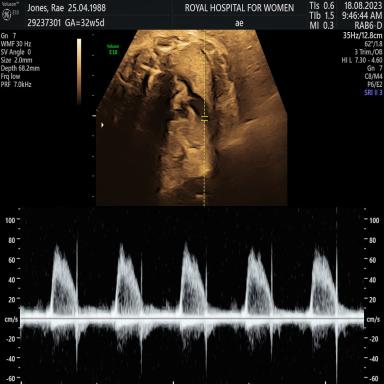Ultrasound-Waves: (25, 213, 363, 384)
